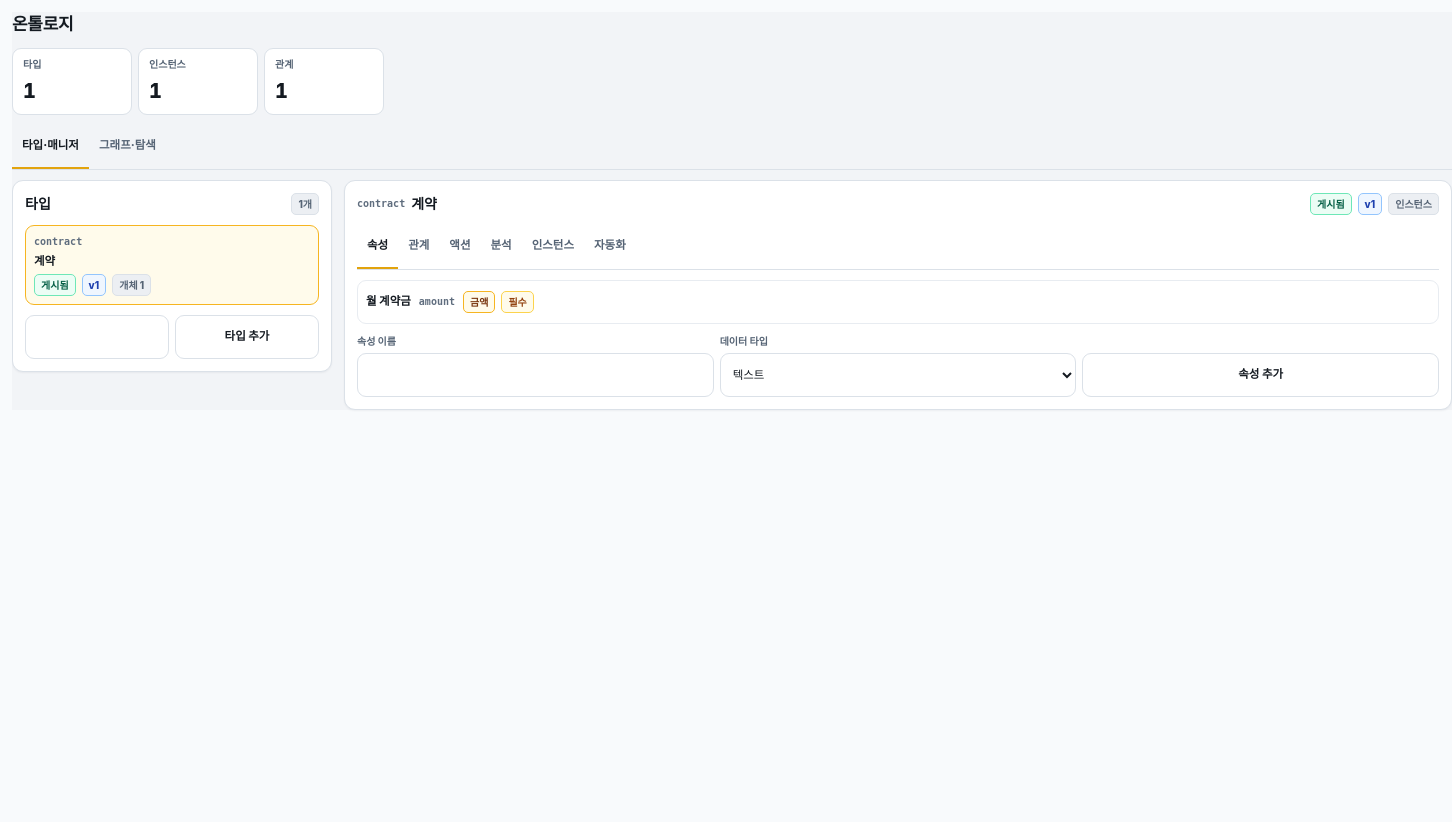
Test: OntologyManagerBody › clears an already-open local A window synchronously when B becomes current
Click the tab "인스턴스" at (553, 246), box [522,224,584,268]
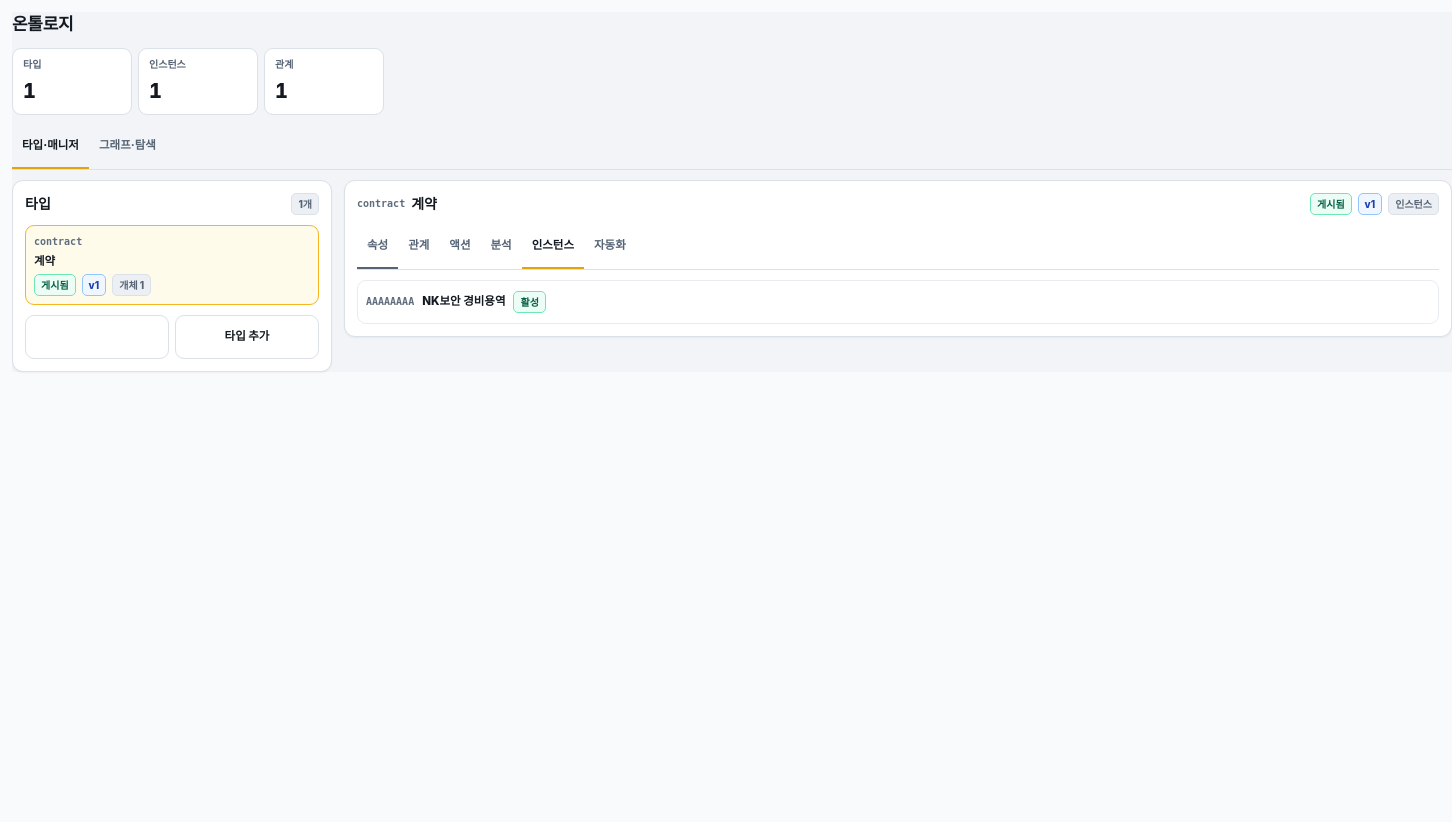
Click the button with aria-label "개체 카드 열기" at (390, 302), box [357,280,1439,324]
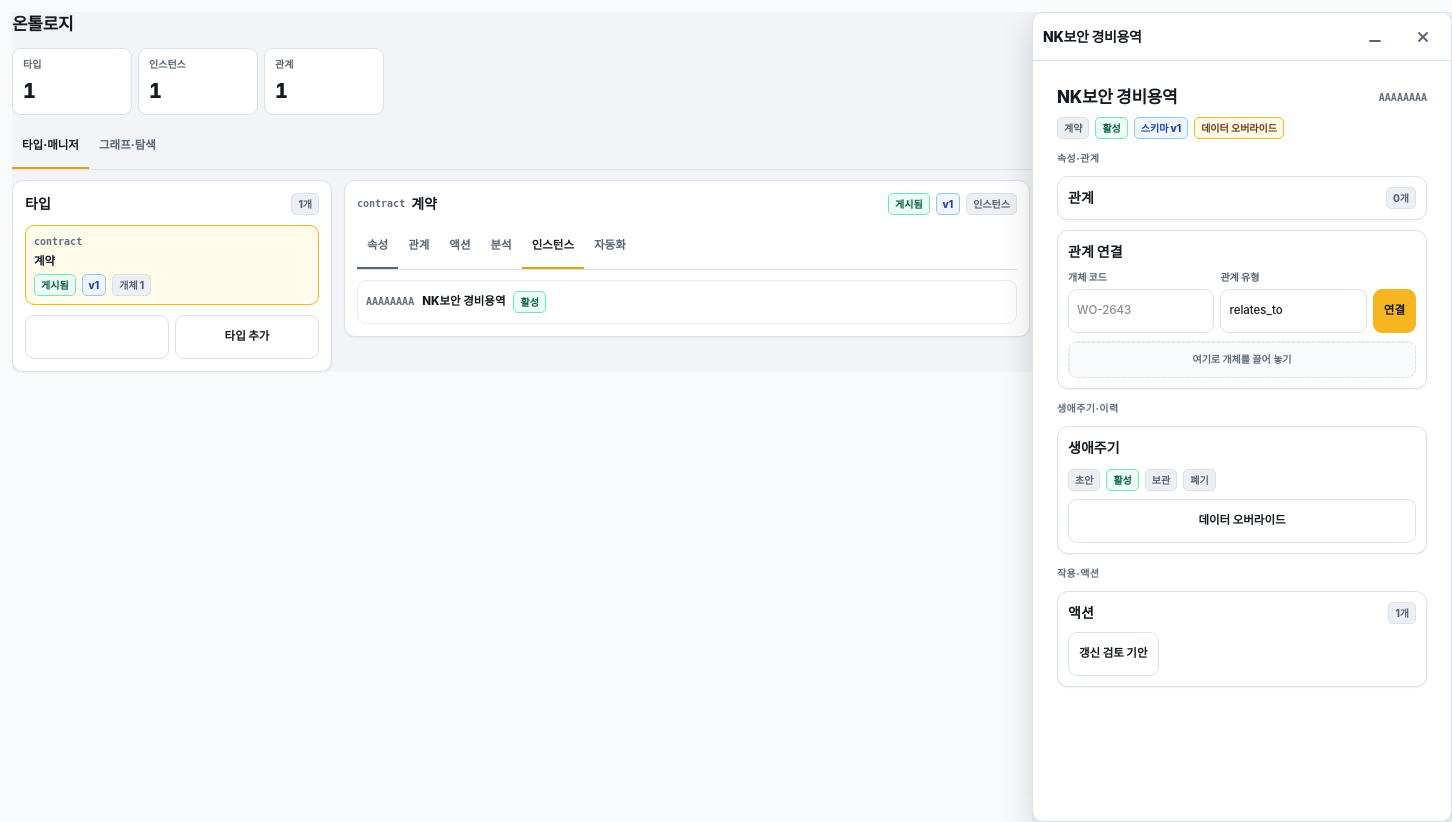
Check: the element "NK보안 경비용역" is shown, box [1032,12,1451,821]
